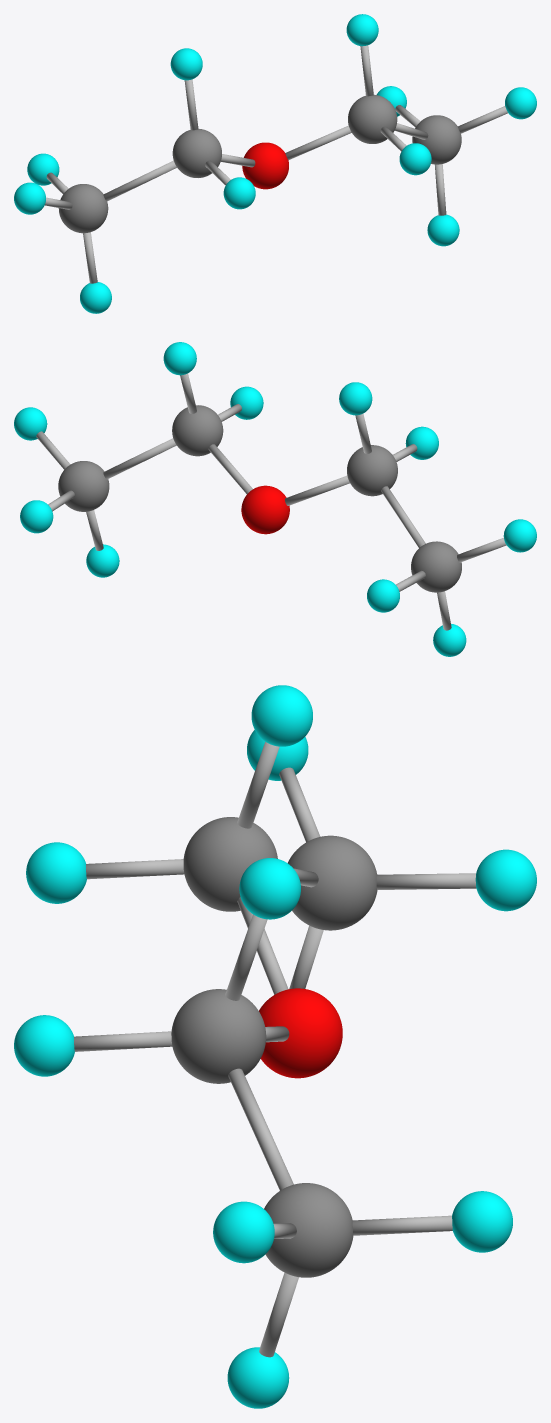
File: diethyl ether.glb
The picture shows the model from 3 angles, top to bottom: view 1: azimuth 30°, elevation 25°; view 2: azimuth 150°, elevation 25°; view 3: azimuth 270°, elevation 25°; orthographic projection. The views are drawn at different scales.
Parts seen in each view (by area): view 1: CMAtom_0; view 2: CMAtom_0; view 3: CMAtom_0.
Part boxes in pixels (x1,y1,x2,y2): CMAtom_0: [14, 14, 536, 313]; CMAtom_0: [14, 342, 536, 656]; CMAtom_0: [14, 685, 536, 1408].
Size of the model in its own units: 0.7338 by 0.346 by 0.3394.
